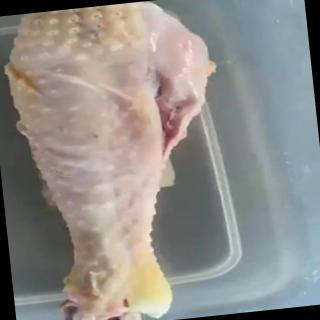Ayam: (1, 1, 242, 320)
